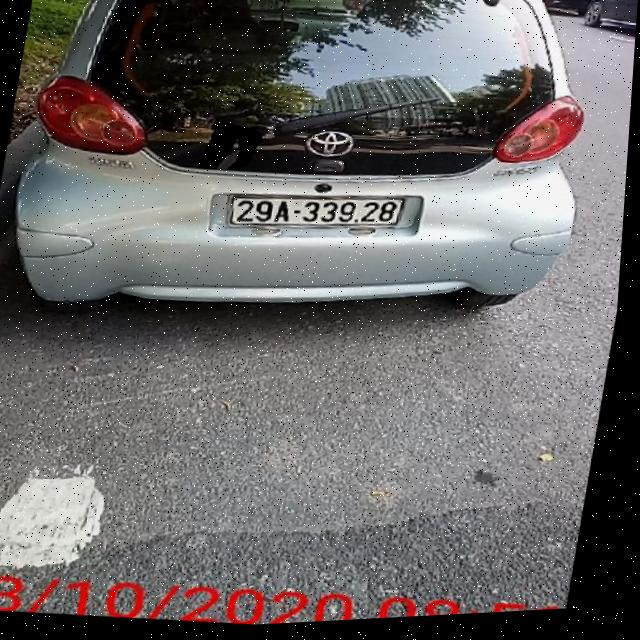car: (0, 0, 620, 353)
plate: (223, 174, 414, 247)
